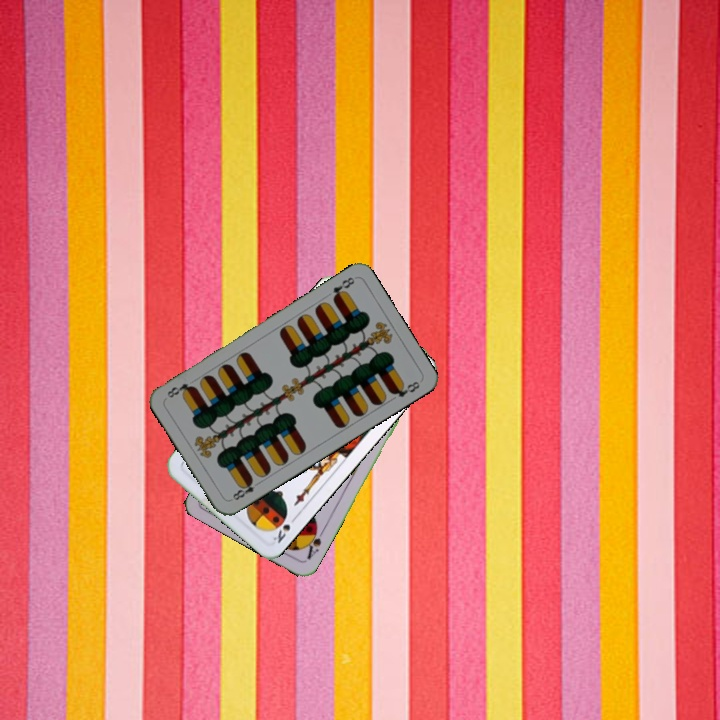E8: (226, 475, 263, 503), (329, 273, 357, 303)
SA: (301, 522, 327, 562)
SK: (269, 512, 300, 546)
